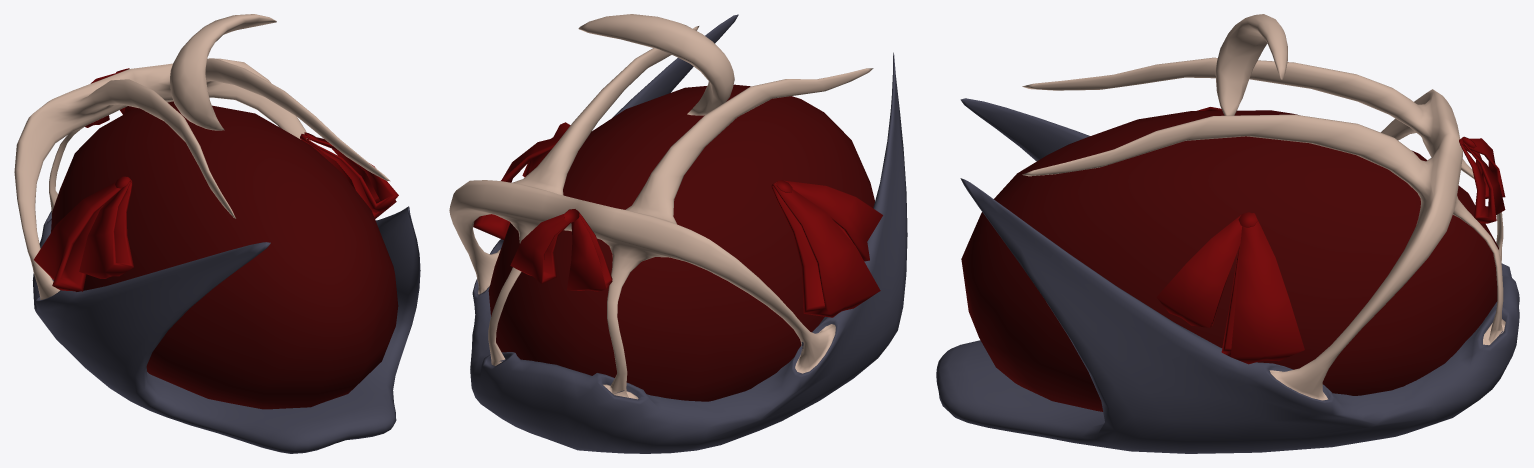
The model's file is Ermshark_Egg.fbx.
The picture shows the model from 3 angles, left to right: view 1: azimuth 30°, elevation 25°; view 2: azimuth 150°, elevation 25°; view 3: azimuth 270°, elevation 25°; orthographic projection. The views are drawn at different scales.
Visible parts, largest first — view 1: Egg, Shell, Ribbons, Cowlick; view 2: Shell, Egg, Ribbons, Cowlick; view 3: Shell, Egg, Ribbons, Cowlick.
Boxes of the visible parts, x1=… form: Egg: x1=51, y1=101, x2=398, y2=409; Shell: x1=14, y1=58, x2=420, y2=453; Ribbons: x1=34, y1=68, x2=398, y2=291; Cowlick: x1=170, y1=14, x2=276, y2=130; Shell: x1=449, y1=14, x2=907, y2=453; Egg: x1=488, y1=84, x2=874, y2=401; Ribbons: x1=473, y1=122, x2=882, y2=317; Cowlick: x1=578, y1=14, x2=734, y2=115; Shell: x1=936, y1=57, x2=1519, y2=453; Egg: x1=961, y1=110, x2=1498, y2=411; Ribbons: x1=1156, y1=107, x2=1505, y2=364; Cowlick: x1=1215, y1=14, x2=1287, y2=115.
Size of the model in its own units: 242 by 223 by 302.
Materials: 1 (1 with a texture image).
